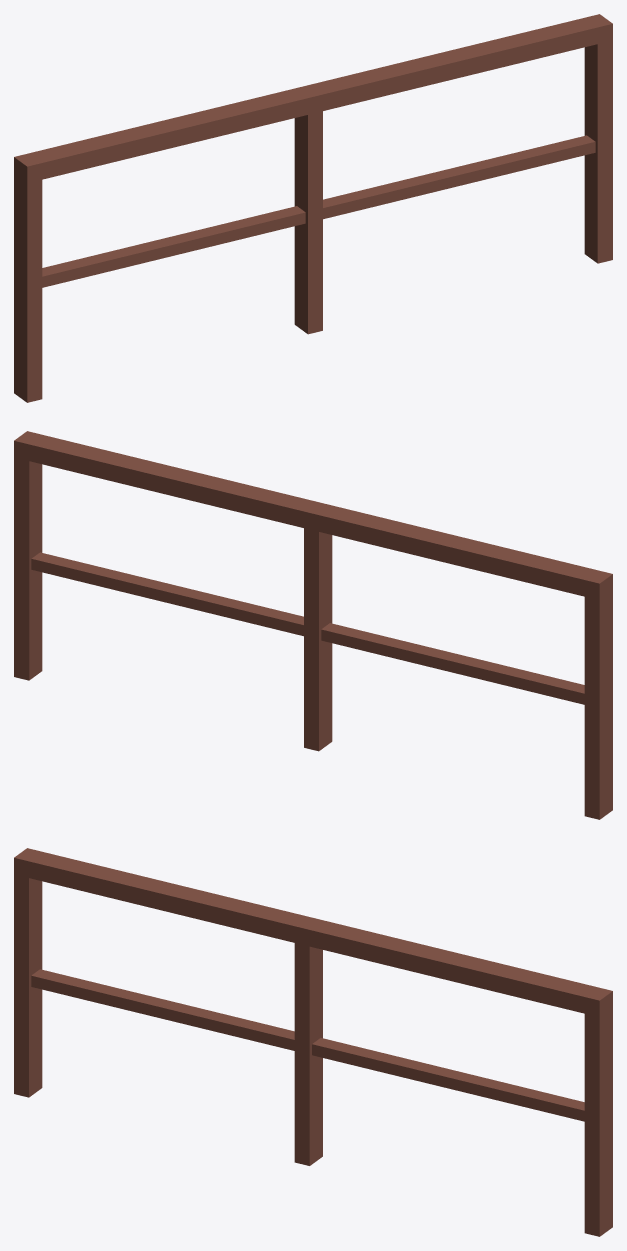
Rendered from Partitions_017.glb.
The picture shows the model from 3 angles, top to bottom: view 1: azimuth 30°, elevation 25°; view 2: azimuth 150°, elevation 25°; view 3: azimuth 330°, elevation 25°; orthographic projection.
Parts seen in each view (by area): view 1: Partitions_017; view 2: Partitions_017; view 3: Partitions_017.
Boxes of the visible parts, <box> form: Partitions_017: <box>14,14,612,402</box>; Partitions_017: <box>14,431,612,819</box>; Partitions_017: <box>14,848,612,1236</box>.
Size of the model in its own units: 2.03 by 0.781 by 0.0793.
1 material, 1 textured.
